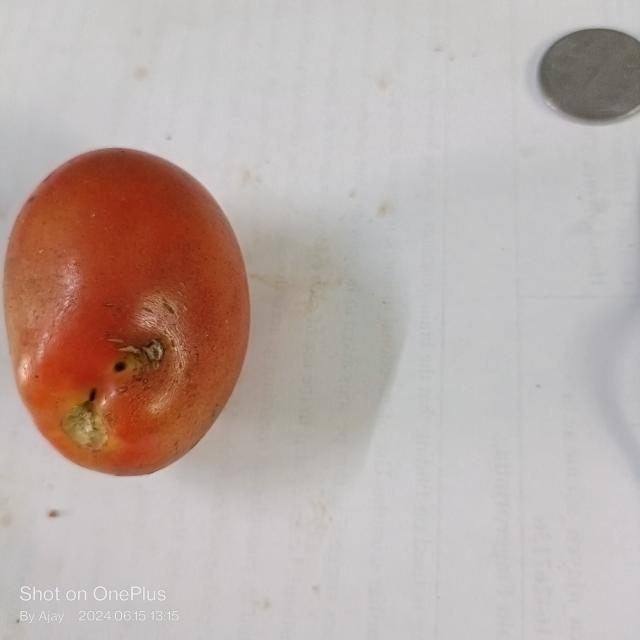Bacterial_Spot: (111, 336, 175, 374), (80, 382, 105, 410)
